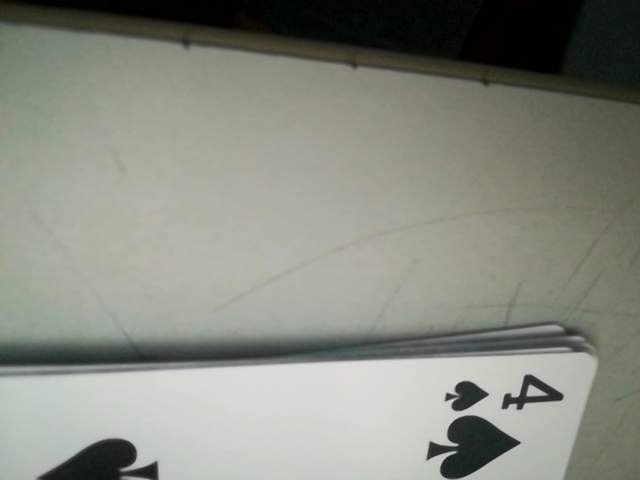ht 4: (436, 363, 576, 416)
